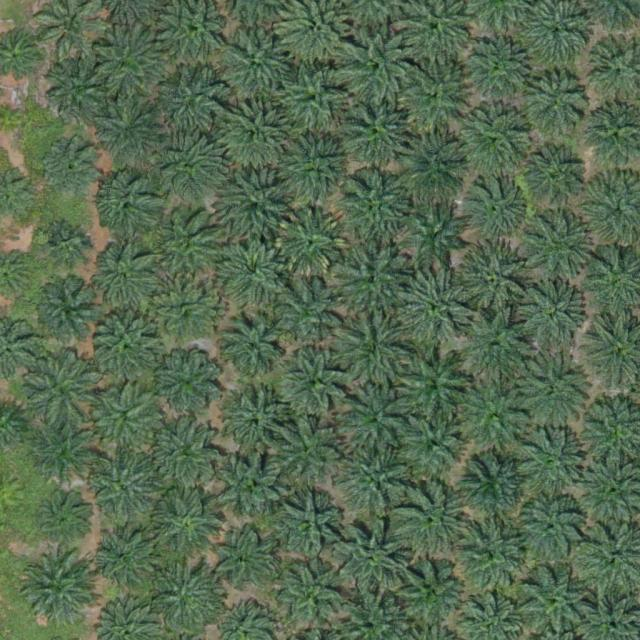Healthy: (461, 30, 539, 109), (453, 241, 531, 320), (458, 310, 536, 389), (393, 269, 471, 348), (396, 126, 474, 205), (393, 59, 471, 138), (338, 27, 416, 106), (336, 92, 414, 171), (336, 166, 414, 245), (334, 241, 412, 320), (328, 313, 406, 392), (91, 22, 169, 101), (22, 350, 100, 429), (18, 550, 96, 629), (274, 559, 352, 638), (338, 381, 416, 460), (337, 439, 415, 518), (334, 524, 412, 603), (394, 342, 472, 421), (397, 404, 475, 483), (394, 480, 472, 559), (388, 551, 466, 630), (452, 377, 530, 456), (511, 428, 589, 507), (513, 351, 591, 430), (150, 559, 228, 637), (280, 64, 351, 135), (280, 131, 351, 202), (222, 389, 293, 460), (459, 522, 530, 593), (525, 212, 595, 283), (520, 72, 590, 143), (461, 109, 531, 180), (218, 235, 288, 306), (220, 101, 290, 172), (222, 32, 292, 103), (154, 131, 224, 202), (152, 210, 223, 280), (149, 276, 219, 347), (94, 314, 164, 385), (87, 242, 158, 312), (94, 169, 164, 240), (97, 95, 167, 166), (47, 57, 117, 128), (155, 345, 225, 416), (152, 417, 222, 488), (213, 449, 283, 520), (272, 419, 342, 490), (273, 489, 343, 560), (461, 452, 532, 522), (517, 495, 587, 566), (515, 279, 585, 349), (276, 280, 346, 350), (218, 313, 288, 383), (222, 172, 292, 242), (155, 68, 225, 138), (281, 348, 351, 418), (92, 387, 162, 457), (31, 419, 101, 489), (90, 454, 160, 524), (152, 488, 222, 558), (465, 178, 528, 241), (42, 138, 105, 201), (37, 283, 100, 346), (212, 529, 275, 592), (525, 146, 587, 209), (404, 203, 467, 265), (95, 529, 157, 592), (38, 490, 92, 545), (45, 222, 92, 269)
Small: (4, 107, 28, 131)
Yellow: (277, 207, 347, 278)
